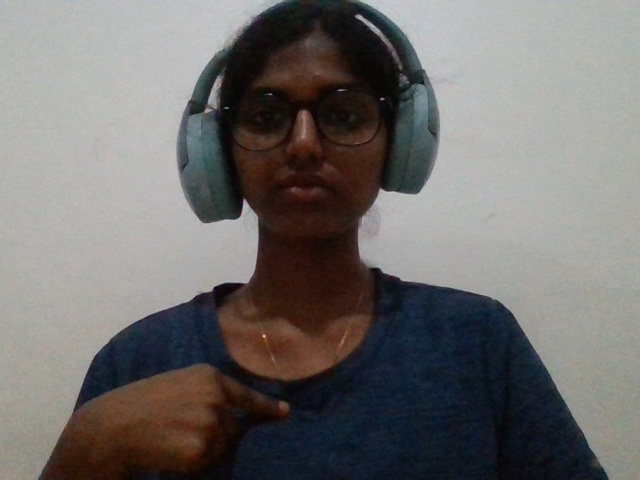Me: (16, 332, 320, 480)
